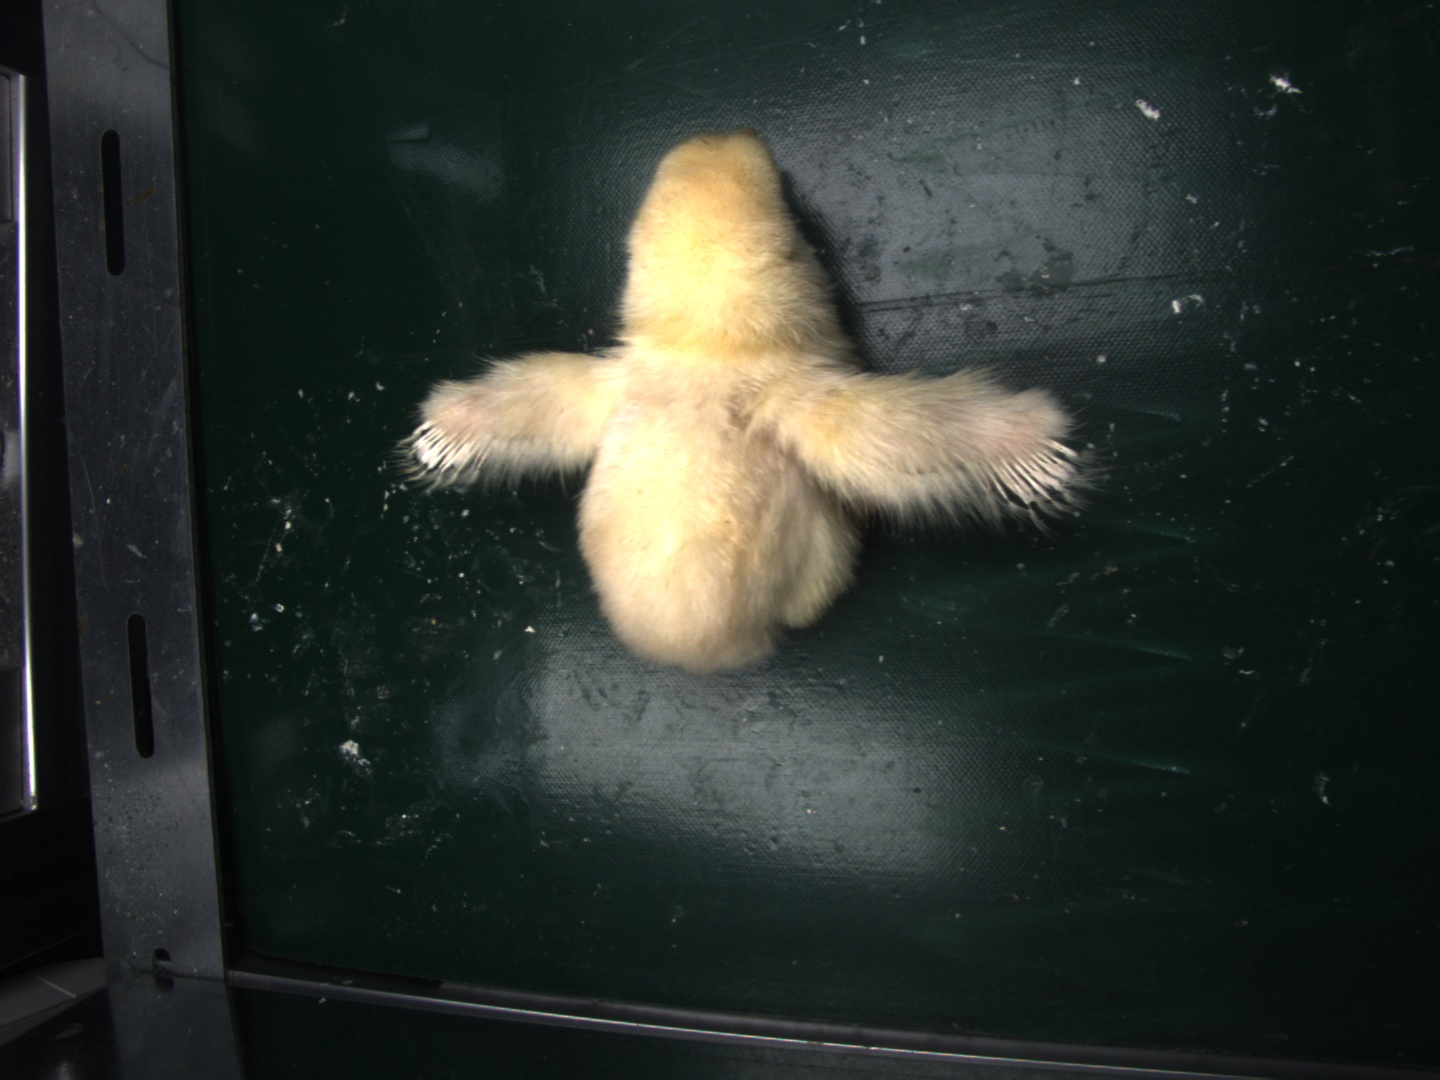male: (988, 434, 1081, 505)
